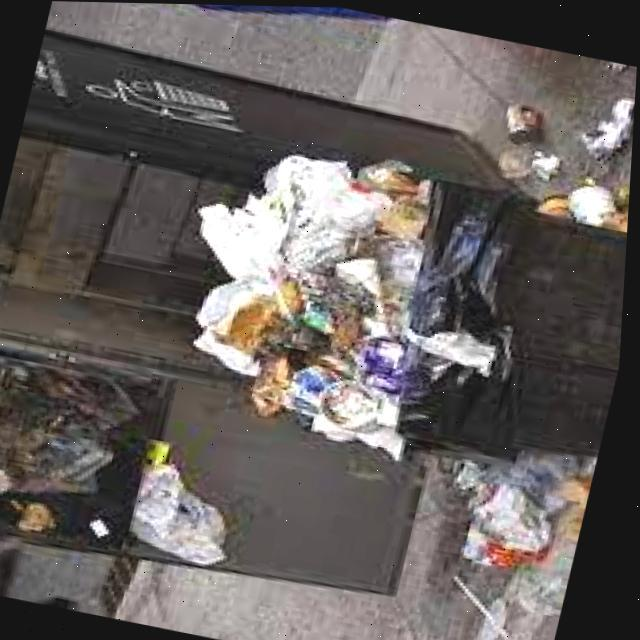Garbage: (200, 152, 434, 454)
Plastic_Bag: (203, 152, 394, 277)
